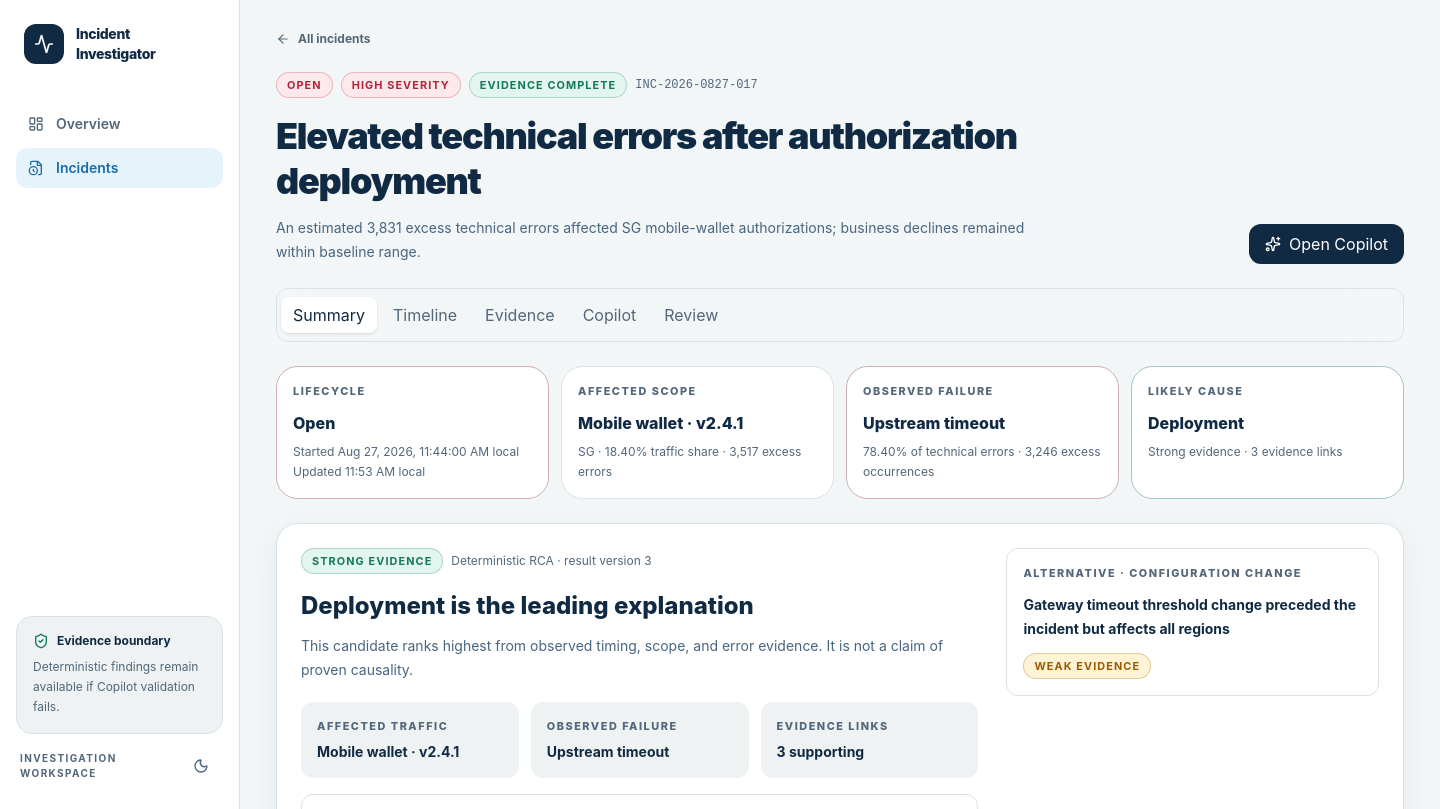
it: persists a labelled fallback in the transcript and keeps the composer usable
Click the button "Open Copilot" at (1326, 244), box left=1249, top=224, right=1404, bottom=264
(page scrolled)
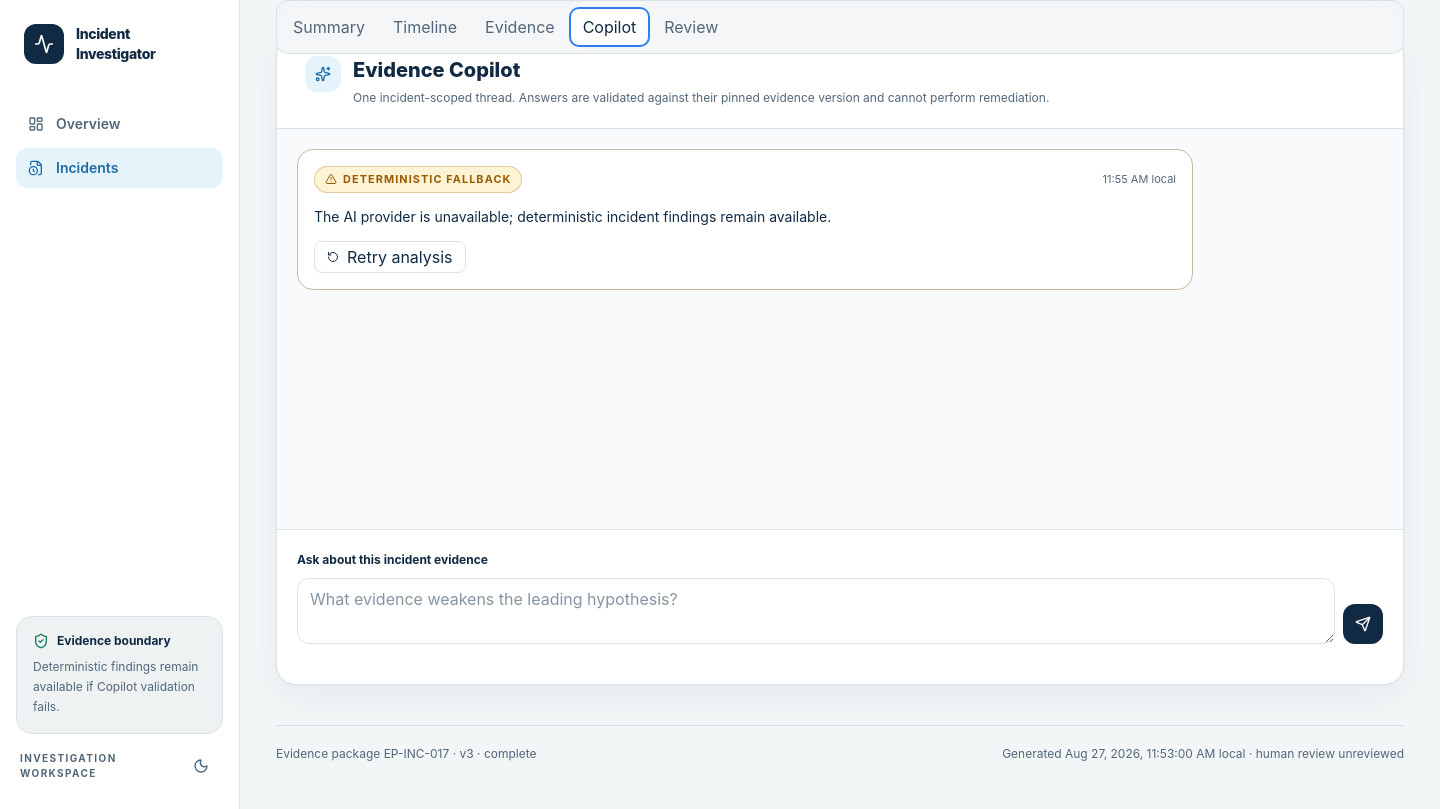
Expected: the text "Deterministic fallback" is shown, left=314, top=166, right=522, bottom=193
Expected: the text box labelled "Ask about this incident evidence" is enabled, left=297, top=578, right=1335, bottom=644
